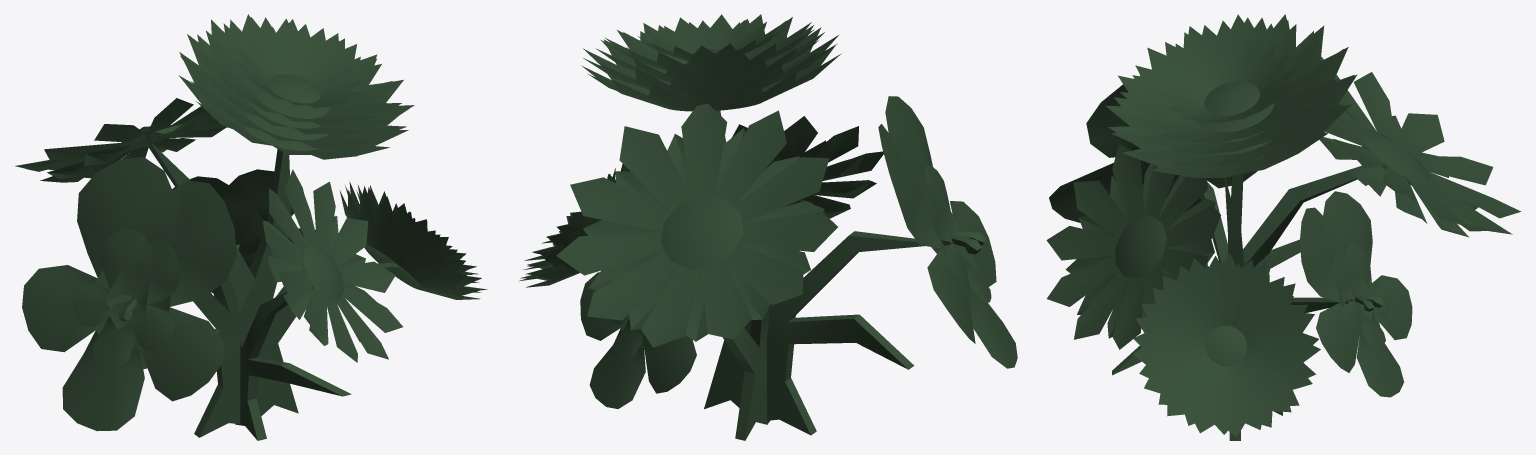
File: g_flowers.fbx
The picture shows the model from 3 angles, left to right: view 1: azimuth 30°, elevation 25°; view 2: azimuth 150°, elevation 25°; view 3: azimuth 270°, elevation 25°; orthographic projection. The views are drawn at different scales.
Parts seen in each view (by area): view 1: g_flowers; view 2: g_flowers; view 3: g_flowers.
Boxes of the visible parts, x1,y1,x2,y2 form: g_flowers: (15,14,487,440); g_flowers: (518,14,1017,440); g_flowers: (1046,14,1520,440).
Bounding box in the file's own units: 51.55 × 47.77 × 42.92.
